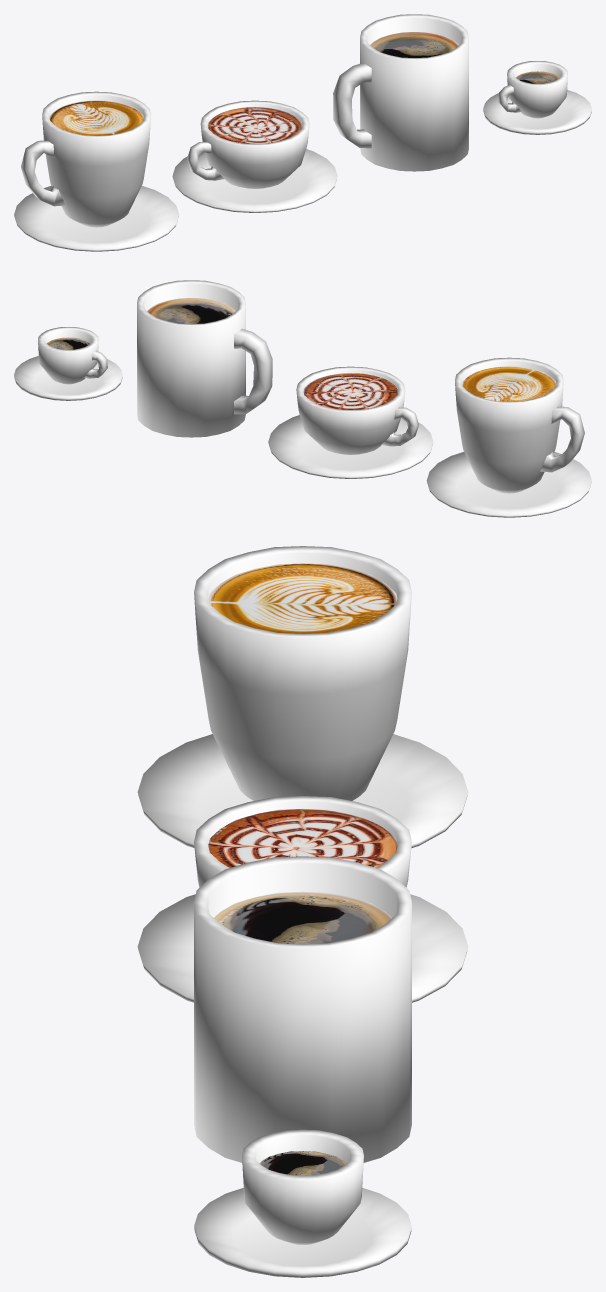
File: coffee-cups.glb
The picture shows the model from 3 angles, top to bottom: view 1: azimuth 30°, elevation 25°; view 2: azimuth 150°, elevation 25°; view 3: azimuth 270°, elevation 25°; orthographic projection. The views are drawn at different scales.
Parts seen in each view (by area): view 1: coffee_black_01_coffee_BLACK_0, coffee_latte_01_coffee_LATTE_0, coffee_cappuccino_01_coffee_CAPPUCCINO_0; view 2: coffee_black_01_coffee_BLACK_0, coffee_latte_01_coffee_LATTE_0, coffee_cappuccino_01_coffee_CAPPUCCINO_0; view 3: coffee_black_01_coffee_BLACK_0, coffee_latte_01_coffee_LATTE_0, coffee_cappuccino_01_coffee_CAPPUCCINO_0.
Part boxes in pixels (x1,y1,x2,y2): coffee_black_01_coffee_BLACK_0: [14, 14, 591, 251]; coffee_latte_01_coffee_LATTE_0: [21, 91, 150, 227]; coffee_cappuccino_01_coffee_CAPPUCCINO_0: [207, 107, 302, 143]; coffee_black_01_coffee_BLACK_0: [14, 280, 591, 517]; coffee_latte_01_coffee_LATTE_0: [455, 357, 584, 493]; coffee_cappuccino_01_coffee_CAPPUCCINO_0: [303, 373, 398, 409]; coffee_black_01_coffee_BLACK_0: [137, 734, 468, 1277]; coffee_latte_01_coffee_LATTE_0: [194, 546, 411, 800]; coffee_cappuccino_01_coffee_CAPPUCCINO_0: [208, 808, 397, 867].
Bounding box in the file's own units: 0.5274 × 0.1 × 0.1346.
3 materials, 3 textured.
